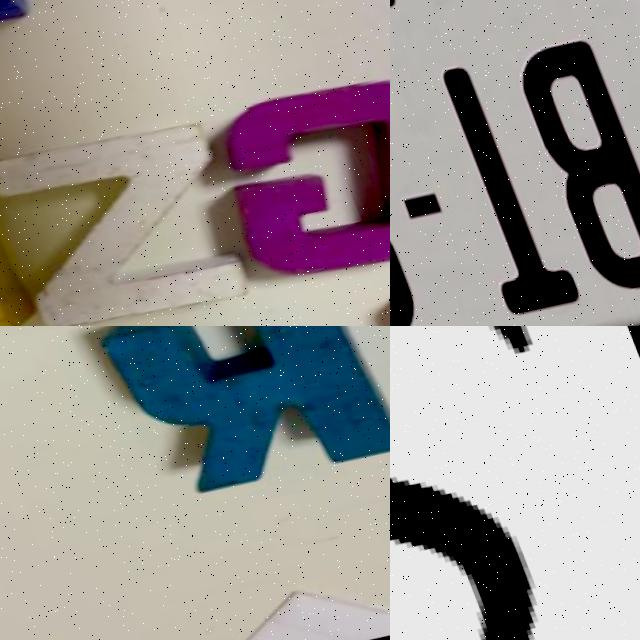B: (493, 24, 640, 297)
G: (185, 42, 390, 297)
K: (73, 326, 390, 512)
S: (390, 326, 640, 640)
T: (401, 48, 574, 317)
Z: (0, 99, 257, 326)
